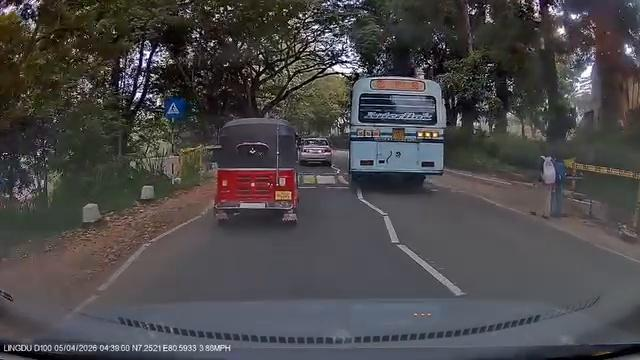illegal overtaking: (341, 67, 448, 201)
